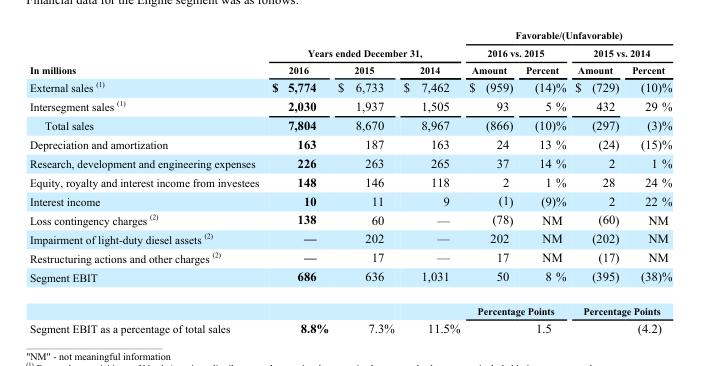table: (28, 29, 671, 334)
table column: (28, 29, 264, 334), (264, 29, 332, 334), (332, 29, 398, 334), (398, 29, 463, 334), (463, 29, 518, 334), (569, 29, 624, 334), (518, 29, 569, 334), (624, 29, 671, 334)
table column header: (28, 29, 671, 77)
table row: (28, 266, 671, 293), (28, 293, 671, 318), (28, 77, 671, 96), (28, 96, 671, 115), (28, 133, 671, 152), (28, 152, 671, 171), (28, 171, 671, 190), (28, 190, 671, 209), (28, 209, 671, 228), (28, 228, 671, 247), (28, 247, 671, 266), (28, 115, 671, 133), (28, 43, 671, 60), (28, 60, 671, 77), (28, 318, 671, 334), (28, 29, 671, 43)
table spanning cell: (28, 29, 264, 77), (264, 29, 463, 60), (463, 29, 671, 43), (463, 293, 569, 318), (569, 293, 671, 318), (463, 43, 569, 60), (569, 43, 671, 60)
